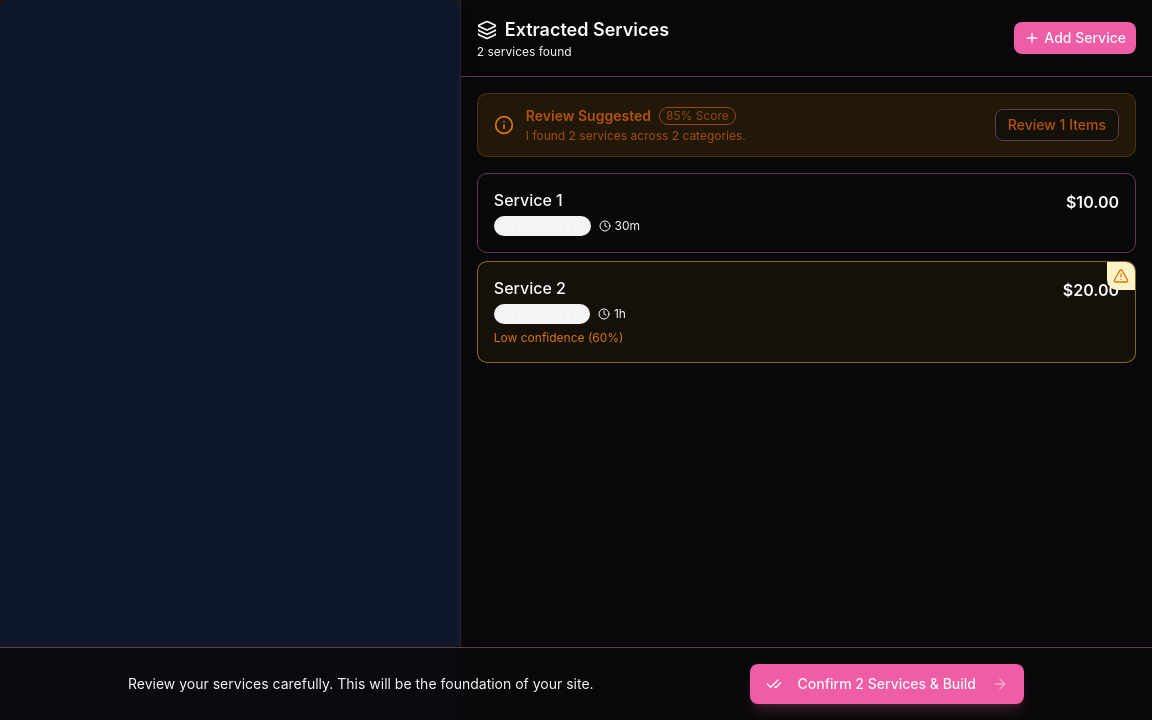
Test: SmartLedger Integration › updates service details on save
The image size is (1152, 720).
Click the heading "Service 1".
click(528, 200)  # box [494,190,563,210]
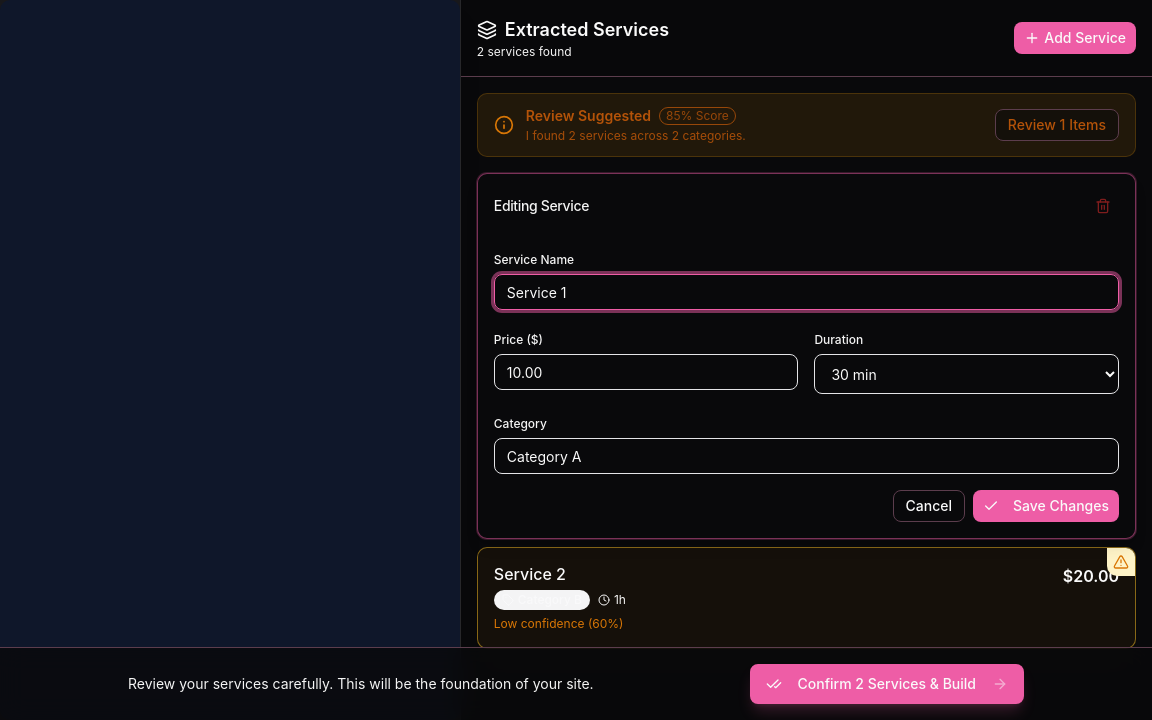
Note: Change name
Replace the text in the field showing "Service 1" below "Service Name" with "Updated Service" at (806, 292), box [494,274,1119,310]
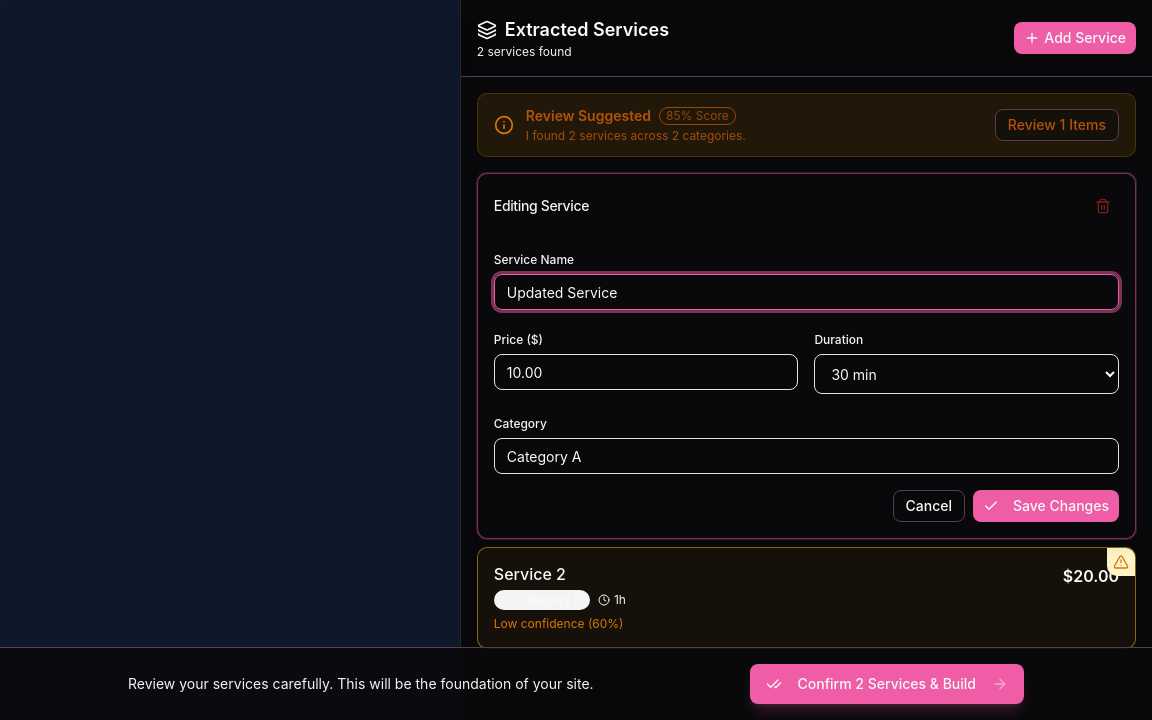
Click the button "Save Changes".
click(1046, 506)  # box [973,490,1119,522]
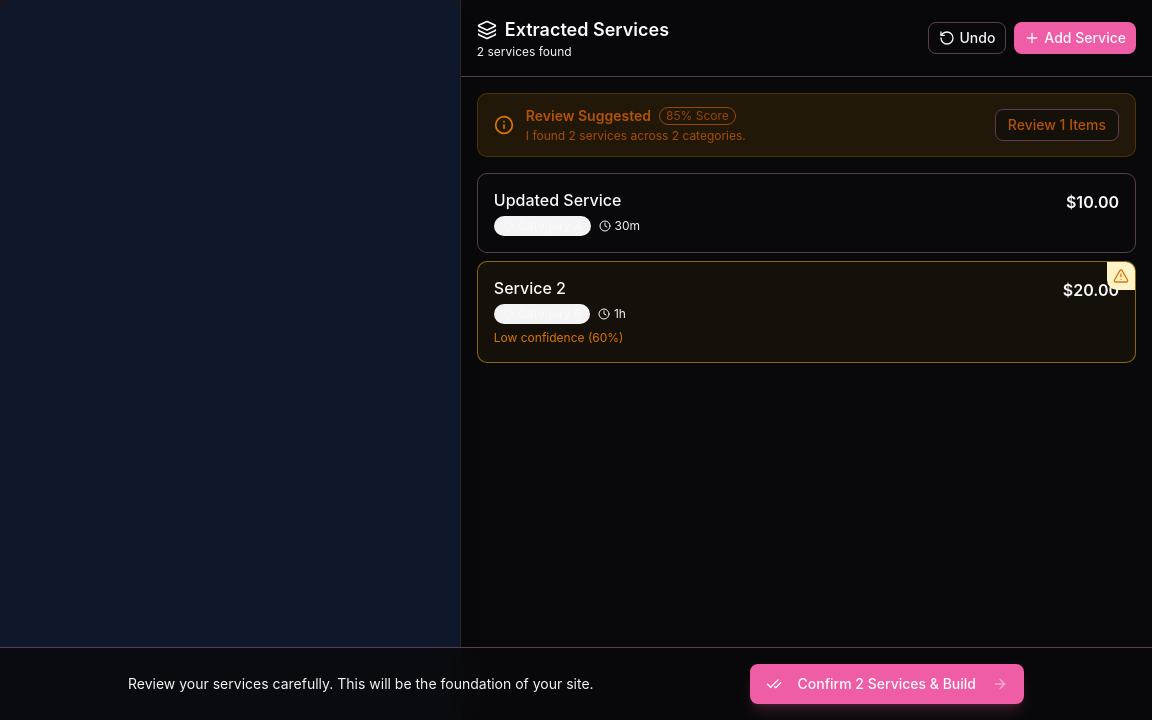
Expected: the heading "Updated Service" is shown, [494,190,621,210]
